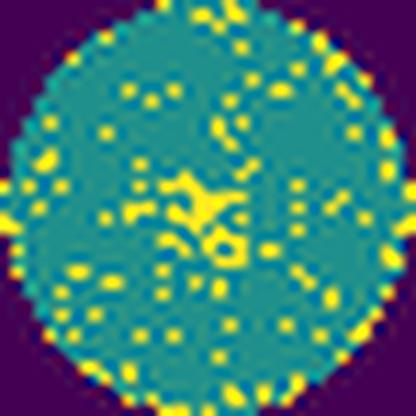Center: (152, 170, 255, 279)
